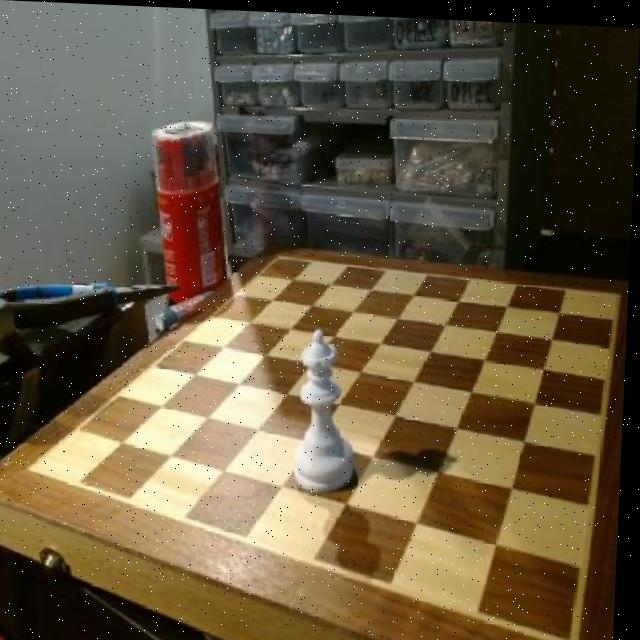white-pawn: (290, 324, 363, 491)
